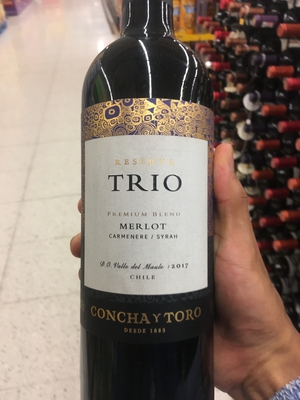trio merlot: (76, 16, 242, 386)
